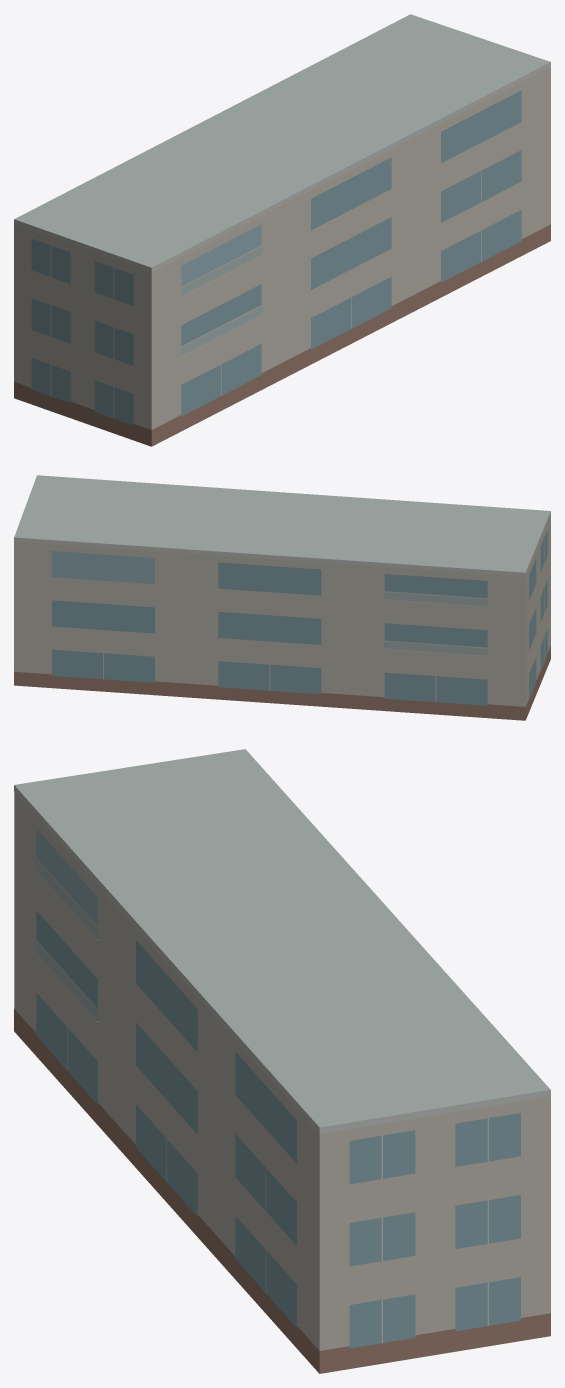
The model's file is survey-upis-32855832.glb.
The picture shows the model from 3 angles, top to bottom: view 1: azimuth 30°, elevation 25°; view 2: azimuth 150°, elevation 25°; view 3: azimuth 270°, elevation 25°; orthographic projection. The views are drawn at different scales.
Visible parts, largest first — view 1: survey-upis-32855832.tmp; view 2: survey-upis-32855832.tmp; view 3: survey-upis-32855832.tmp.
Boxes of the visible parts, box(x1,y1,x2,y2) form: survey-upis-32855832.tmp: box(14, 14, 550, 446); survey-upis-32855832.tmp: box(14, 475, 550, 720); survey-upis-32855832.tmp: box(14, 749, 550, 1373).
Size of the model in its own units: 30.17 by 9.15 by 18.08.
